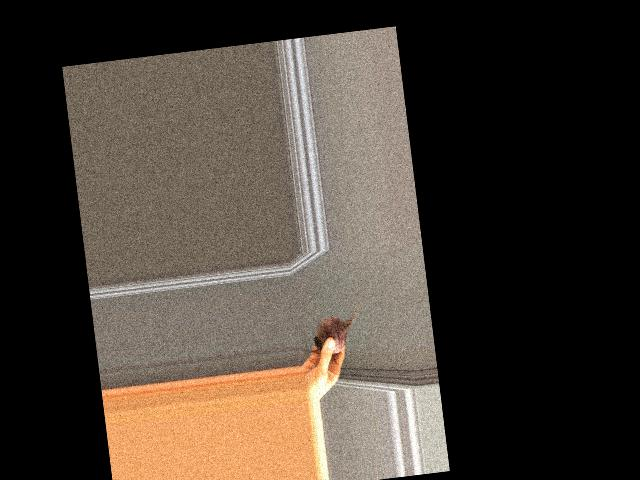beet: (293, 294, 365, 357)
